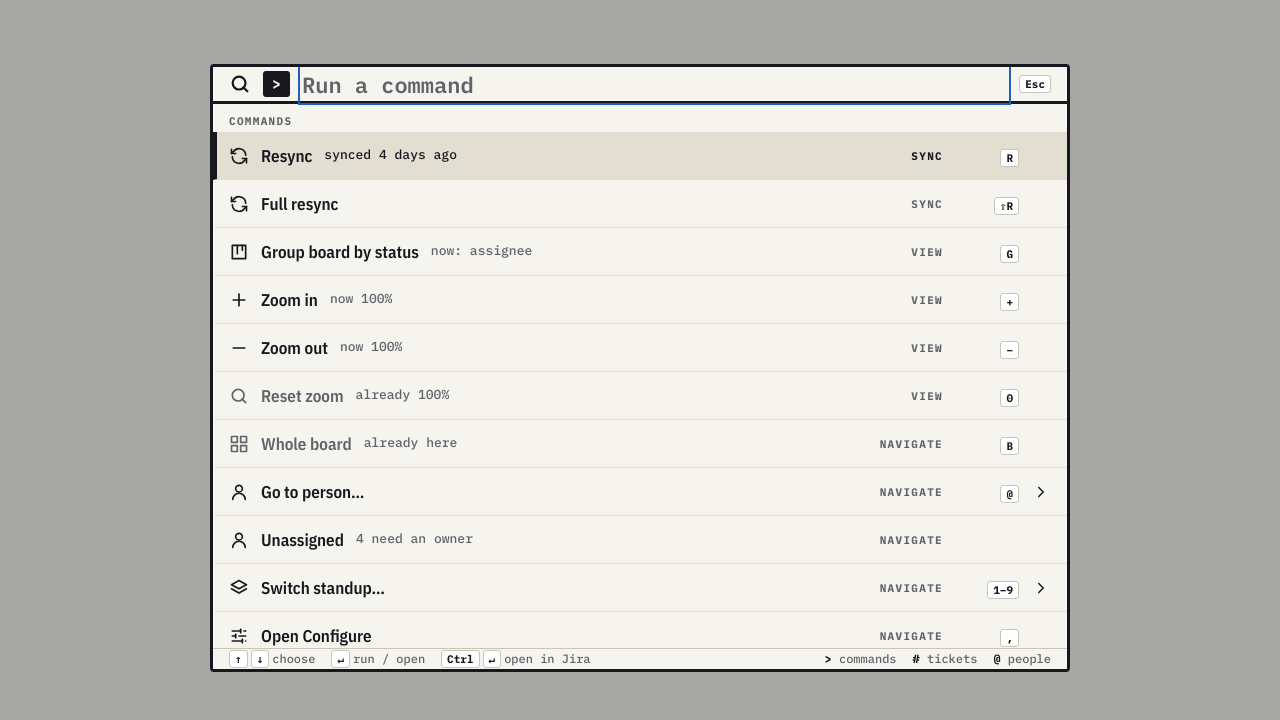
Test: nested commands and Esc › Esc unwinds a nested level, then the mode chip, then closes
The width and height of the screenshot is (1280, 720).
Later steps or results of the test are not shown.
Type "theme" into the dropdown.
click(655, 84); type("theme")  # box [302,67,1007,101]
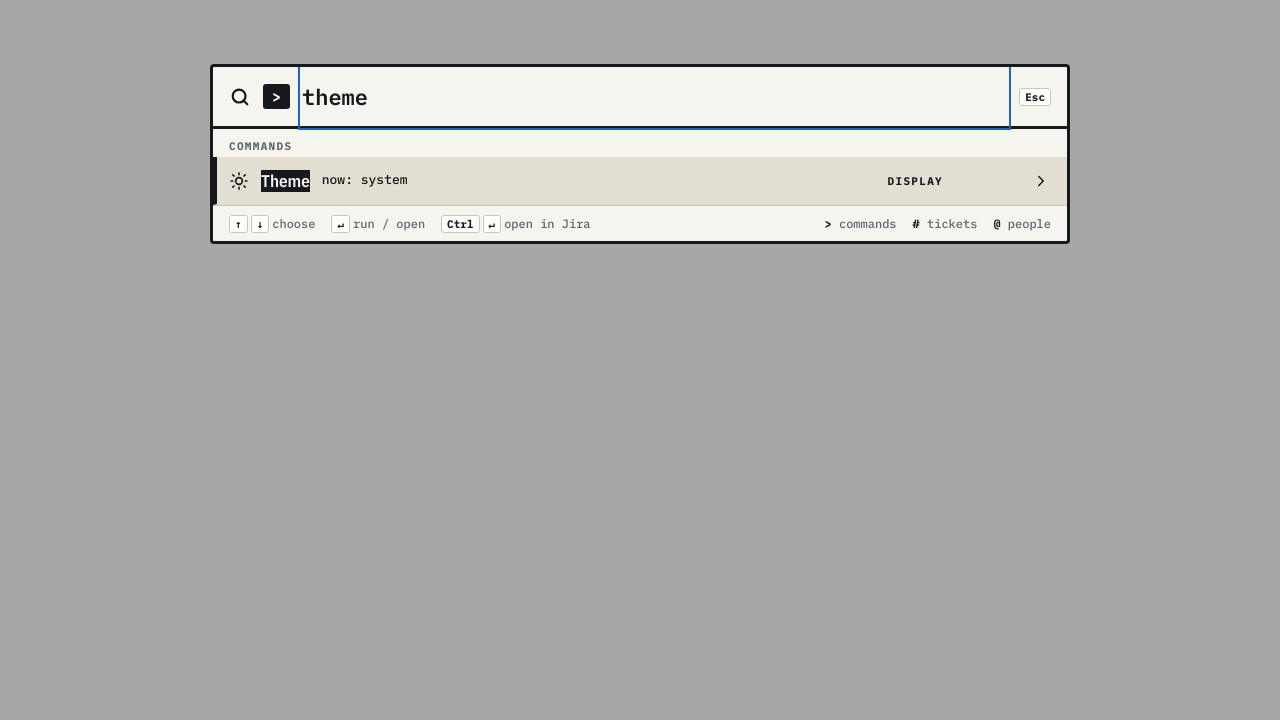
Press Enter in the dropdown, box [302,67,1007,126]
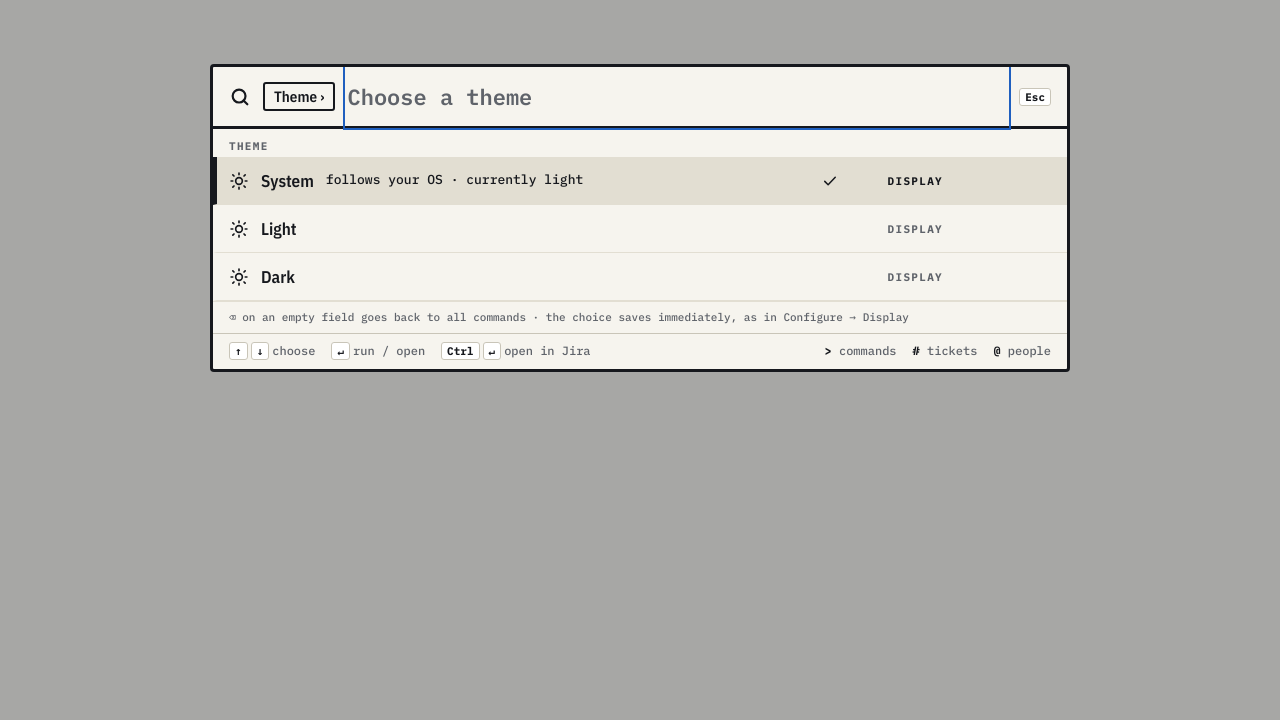
Press Escape in the dropdown, box [348,67,1007,126]
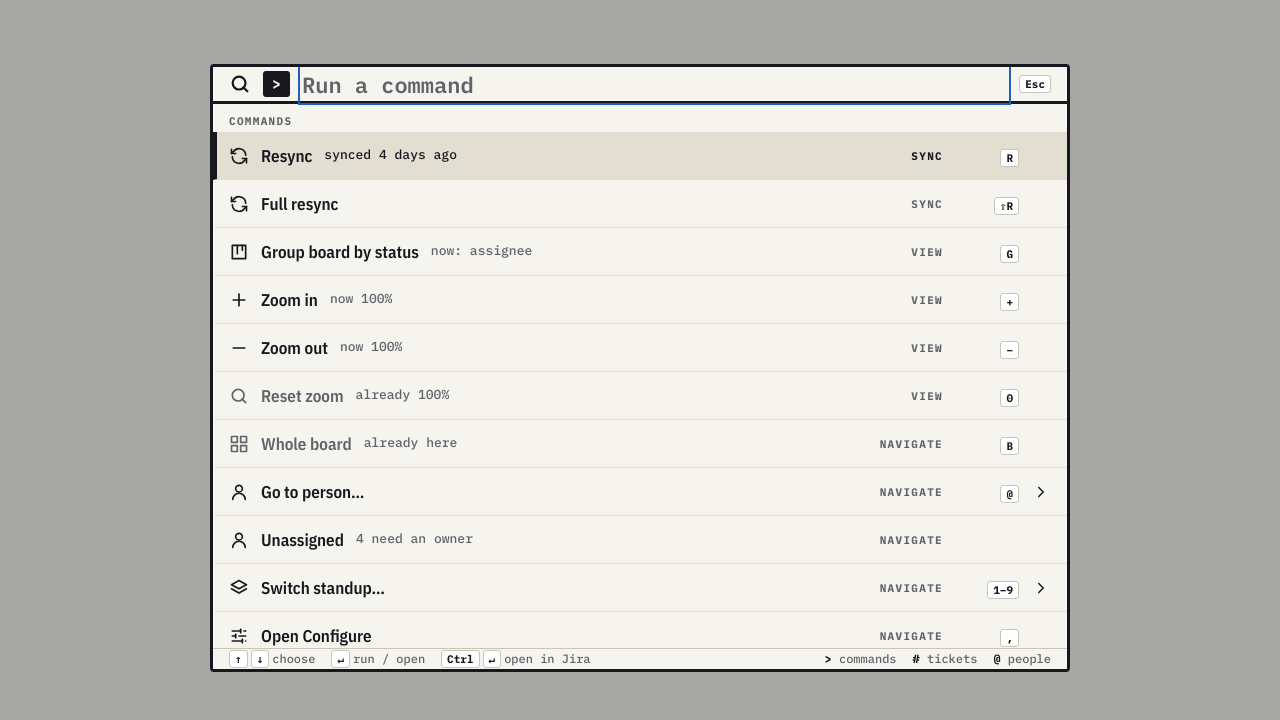
Expected: the element with test id "pal-crumb" is gone
Expected: the button named "commands only" is shown, [263,71,290,97]
